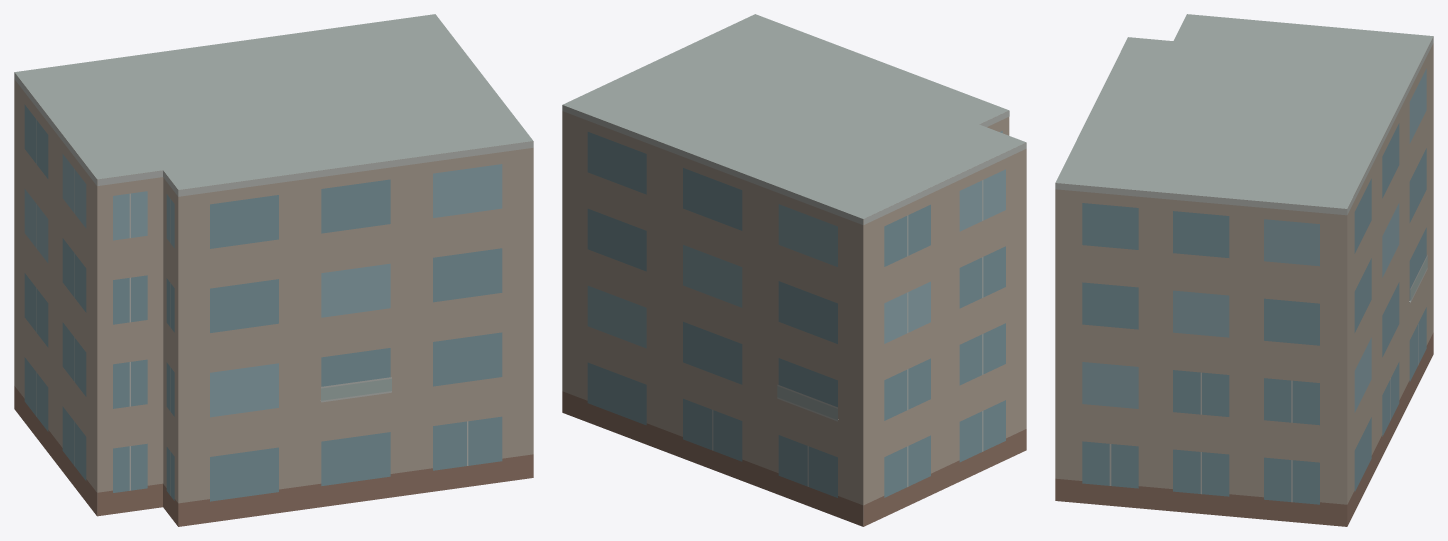
Rendered from residential-64e4d26d-7fbf-4de7-abf4-02c4cffcae19.glb.
The picture shows the model from 3 angles, left to right: view 1: azimuth 30°, elevation 25°; view 2: azimuth 150°, elevation 25°; view 3: azimuth 270°, elevation 25°; orthographic projection. The views are drawn at different scales.
Visible parts, largest first — view 1: residential-64e4d26d-7fbf-4de7-abf4-02c4cffcae19.tmp; view 2: residential-64e4d26d-7fbf-4de7-abf4-02c4cffcae19.tmp; view 3: residential-64e4d26d-7fbf-4de7-abf4-02c4cffcae19.tmp.
Part boxes in pixels (bbox=[...]): residential-64e4d26d-7fbf-4de7-abf4-02c4cffcae19.tmp: bbox=[14, 14, 533, 526]; residential-64e4d26d-7fbf-4de7-abf4-02c4cffcae19.tmp: bbox=[562, 14, 1026, 526]; residential-64e4d26d-7fbf-4de7-abf4-02c4cffcae19.tmp: bbox=[1055, 14, 1433, 526].
Size of the model in its own units: 16.06 by 12.2 by 13.17.
